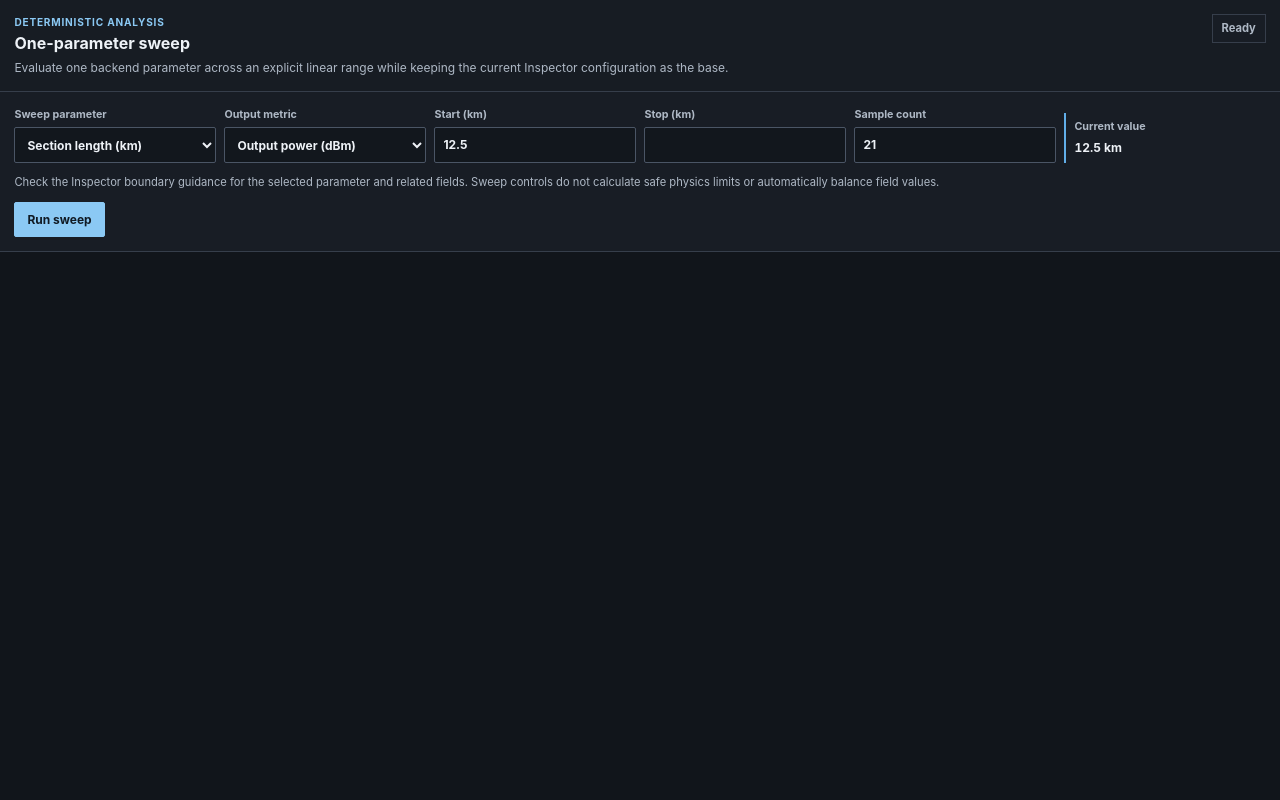
Test: SweepWorkspace › reuses results for metric changes and clears them for range changes
In the number field labelled "Stop (km)": (745, 145) top-left (644, 127), bottom-right (846, 163), type "20"
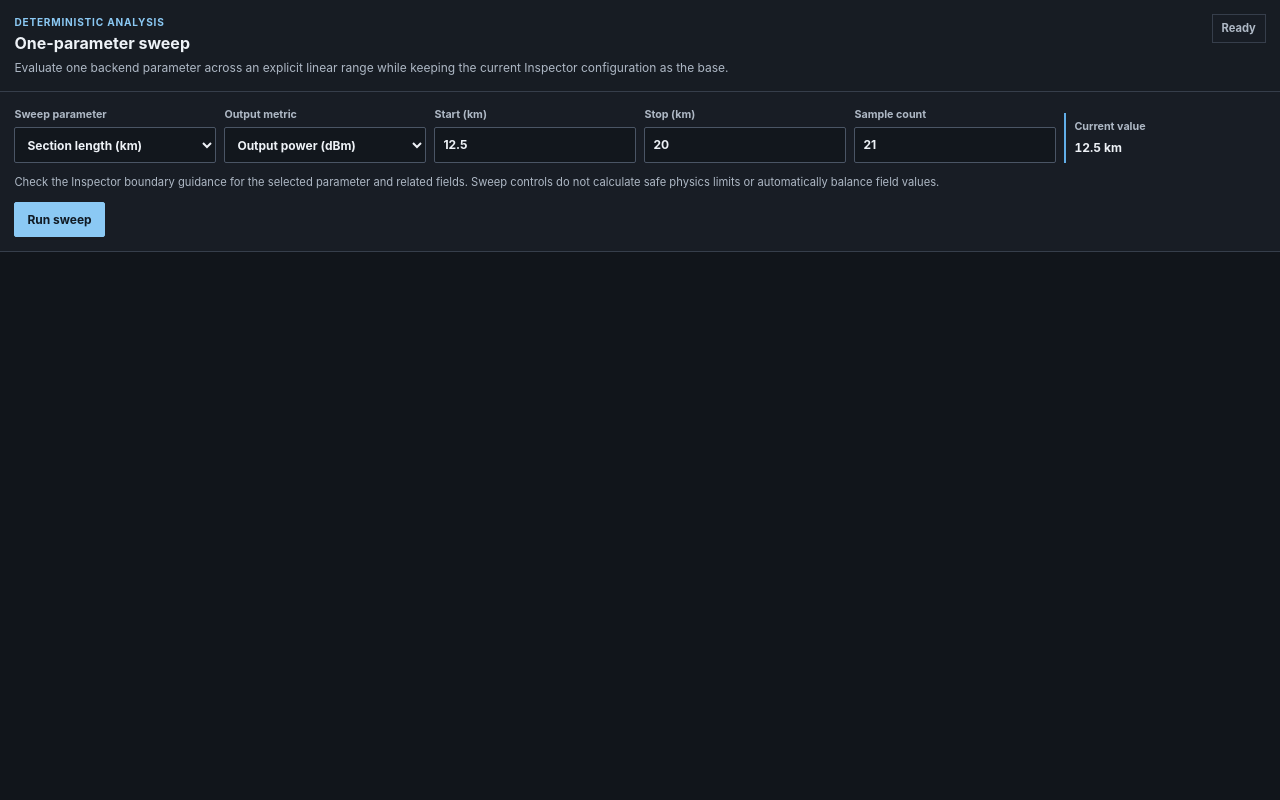
Replace the text in the number field labelled "Sample count" with "3": (955, 145) top-left (854, 127), bottom-right (1056, 163)
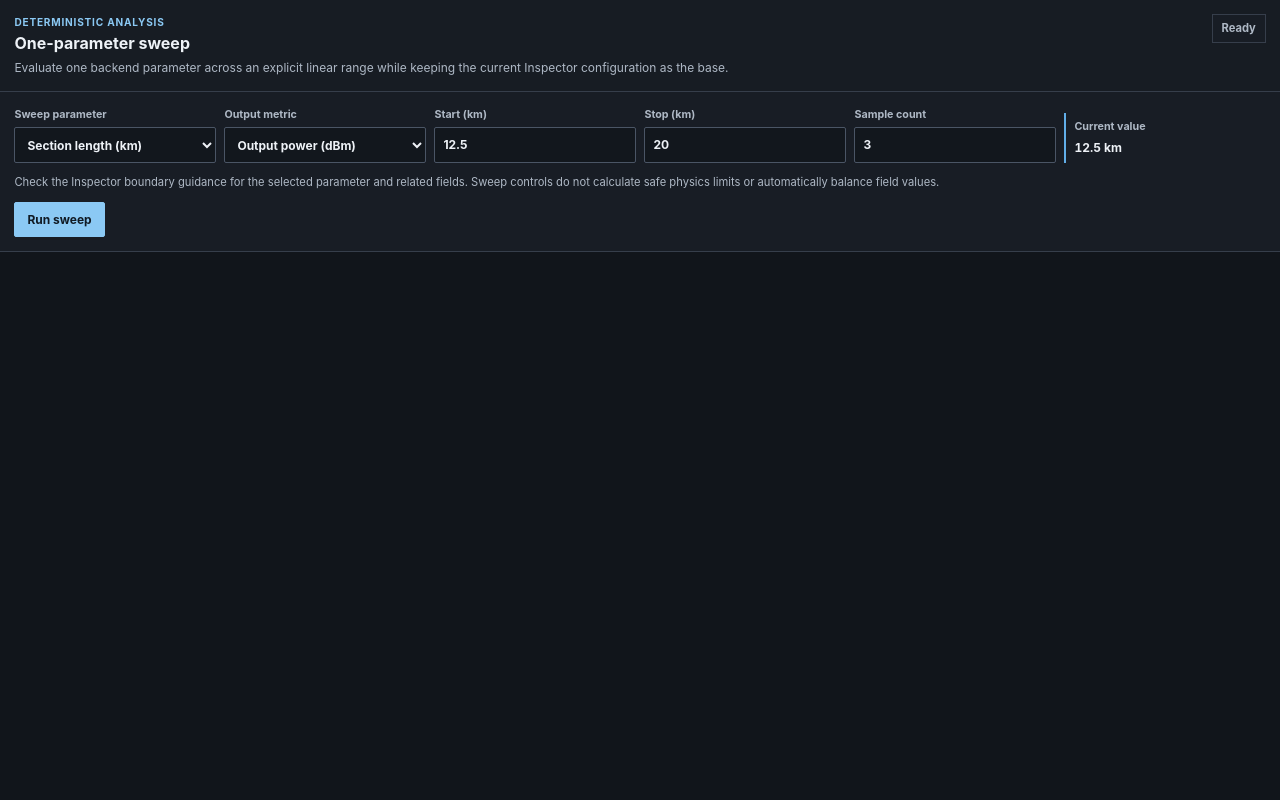
Click the button "Run sweep": click(60, 220) top-left (14, 202), bottom-right (105, 237)
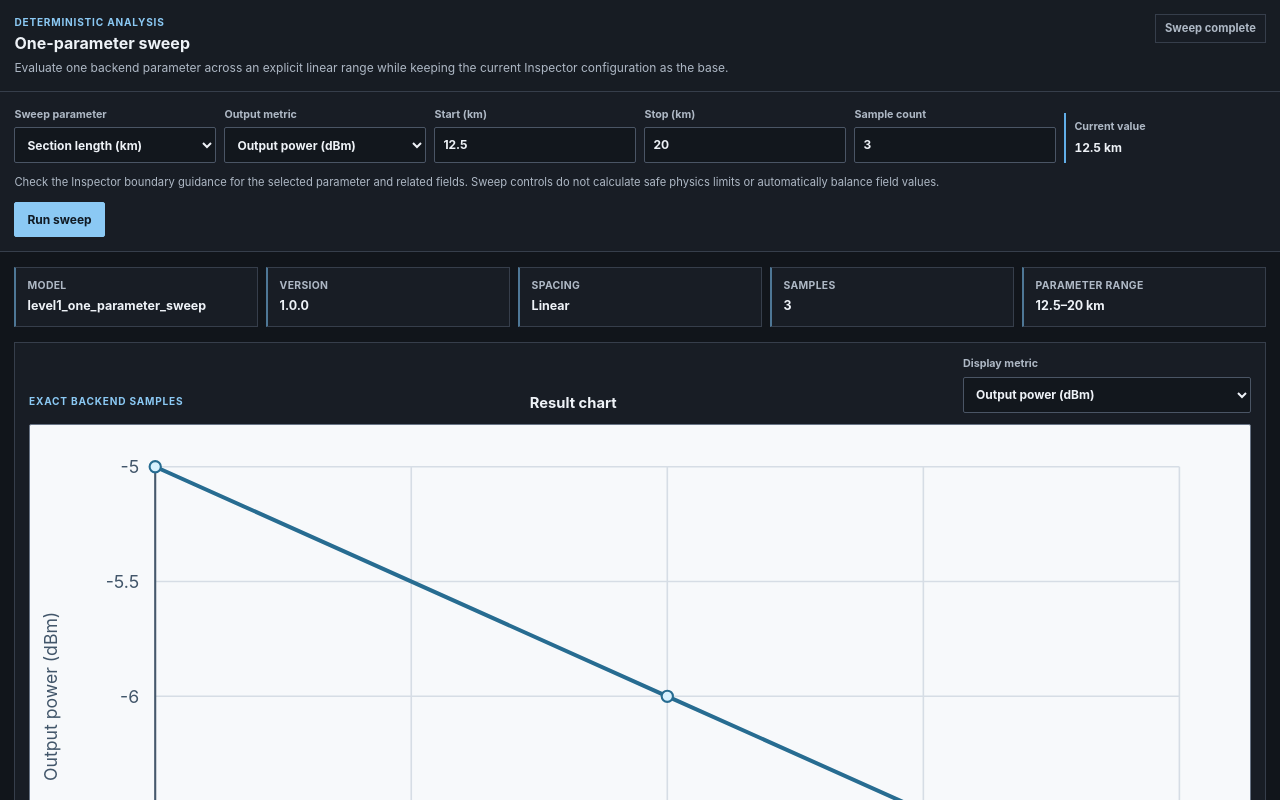
Select "Group delay (ps)" in the dropdown labelled "Output metric": (325, 145) top-left (224, 127), bottom-right (426, 163)
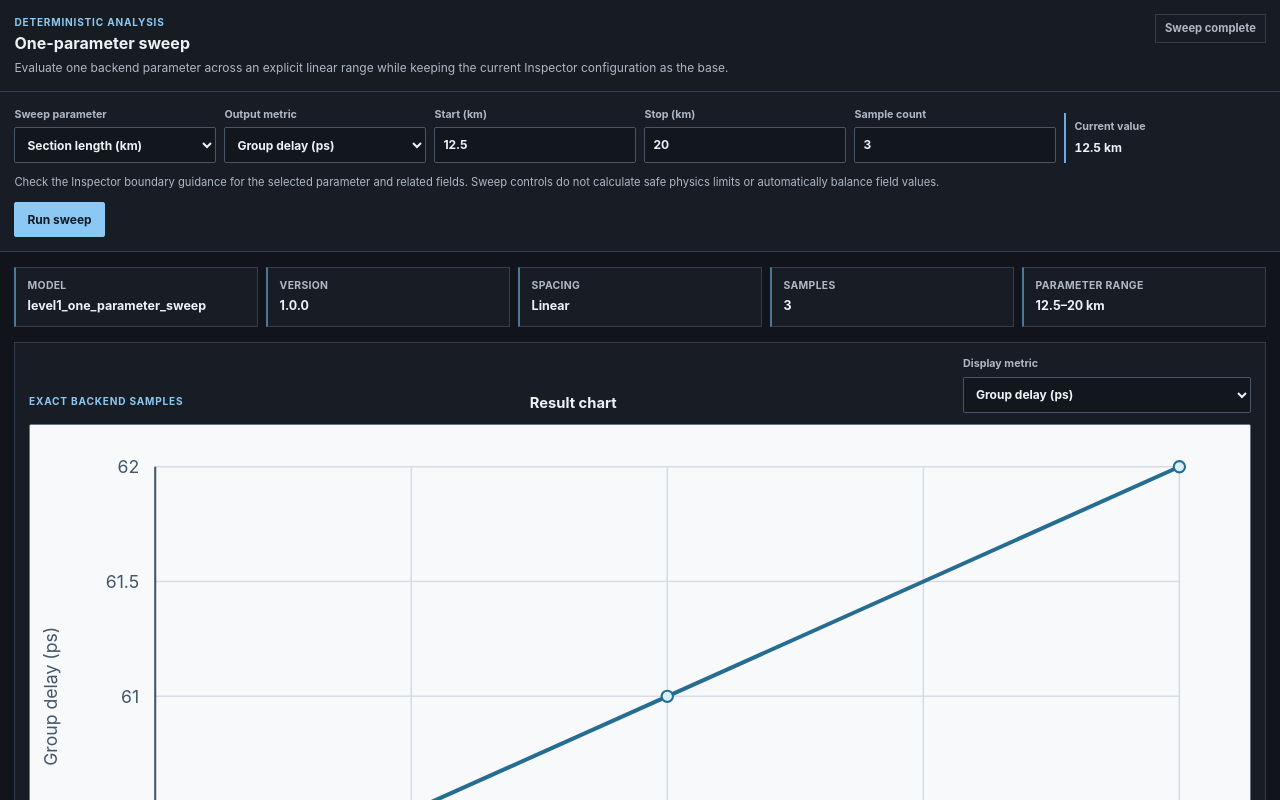
Replace the text in the number field labelled "Start (km)" with "13": (535, 145) top-left (434, 127), bottom-right (636, 163)
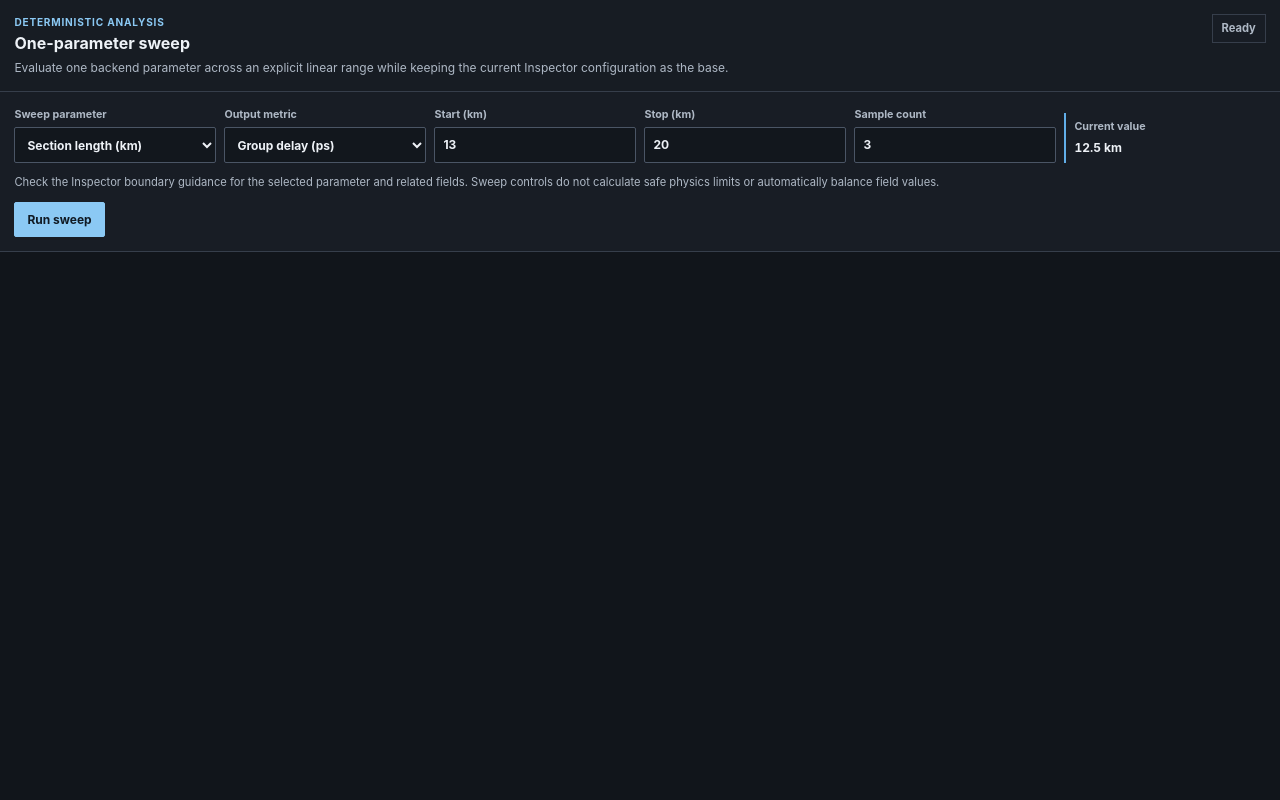
Now the text "Sweep complete" is gone
